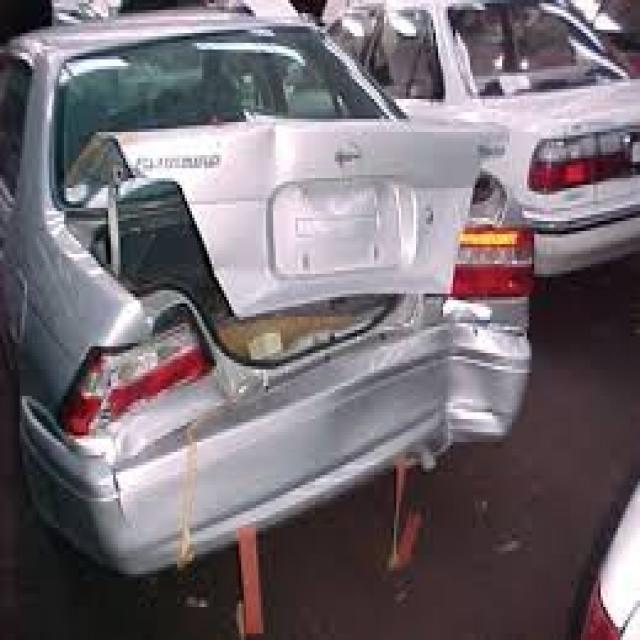damaged-trunk: (70, 118, 503, 326)
